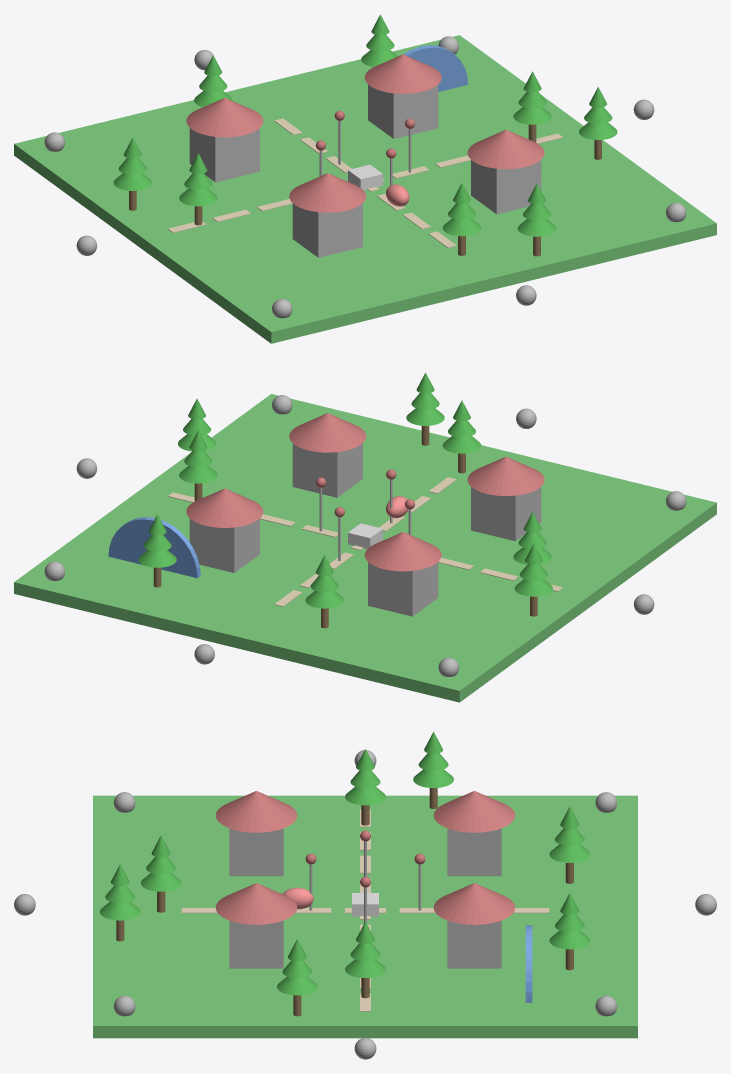
3 views of the same model, one above another, from view 1: azimuth 30°, elevation 25°; view 2: azimuth 150°, elevation 25°; view 3: azimuth 270°, elevation 25° (orthographic). The views are drawn at different scales.
Visible parts, largest first — view 1: Ground; view 2: Ground; view 3: Ground.
Boxes of the visible parts, left/top/right/bottom form: Ground: left=14, top=14, right=716, bottom=343; Ground: left=14, top=373, right=716, bottom=702; Ground: left=14, top=731, right=716, bottom=1059.
Bounding box in the file's own units: 51.6 × 10.13 × 51.6.
